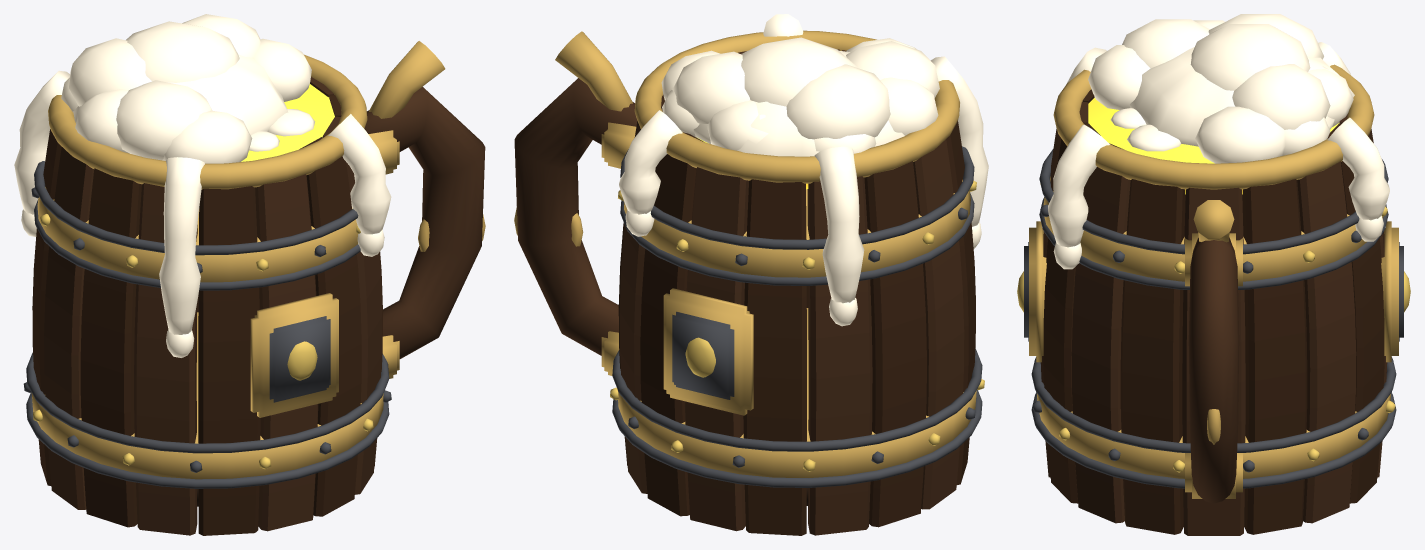
Rendered from tavern_mug.glb.
3 views of the same model, side by side, from view 1: azimuth 30°, elevation 25°; view 2: azimuth 150°, elevation 25°; view 3: azimuth 270°, elevation 25° (orthographic).
Visible parts, largest first — view 1: MugHandle, MugStave_11, MugStave_9, MugStave_10, MugBrassRim, MugStave_8, MugHoop_2, MugStave_13, MugStave_12, MugHoop_10, FoamDrip_0, MugCrest_Front (+25 smaller); view 2: MugHandle, MugStave_5, MugStave_7, MugStave_6, MugBrassRim, MugStave_8, MugHoop_2, MugStave_3, MugStave_4, MugHoop_10, FoamBubble_2, MugCrest_Back (+26 smaller); view 3: MugStave_1, MugStave_15, MugStave_2, MugStave_14, MugHandle, MugBrassRim, MugHoop_2, MugStave_0, MugStave_3, MugHoop_10, MugFoamCap, MugStave_13 (+27 smaller).
Boxes of the visible parts, x1,y1,x2,y2 form: MugHandle: [364, 86, 485, 358]; MugStave_11: [198, 186, 260, 535]; MugStave_9: [80, 168, 141, 527]; MugStave_10: [134, 183, 197, 535]; MugBrassRim: [48, 54, 367, 189]; MugStave_8: [44, 147, 94, 509]; MugHoop_2: [31, 312, 383, 479]; MugStave_13: [299, 137, 361, 516]; MugStave_12: [255, 174, 318, 531]; MugHoop_10: [37, 187, 357, 282]; FoamDrip_0: [159, 157, 204, 334]; MugCrest_Front: [250, 293, 338, 417]; MugHandle: [514, 78, 637, 355]; MugStave_5: [743, 179, 806, 535]; MugStave_7: [864, 161, 926, 527]; MugStave_6: [807, 176, 872, 535]; MugBrassRim: [634, 30, 959, 183]; MugStave_8: [913, 139, 964, 509]; MugHoop_2: [617, 308, 976, 477]; MugStave_3: [640, 132, 703, 516]; MugStave_4: [684, 167, 748, 531]; MugHoop_10: [624, 180, 970, 277]; FoamBubble_2: [786, 64, 890, 139]; MugCrest_Back: [663, 288, 753, 415]; MugStave_1: [1242, 179, 1307, 534]; MugStave_15: [1120, 179, 1185, 534]; MugStave_2: [1297, 161, 1356, 523]; MugStave_14: [1071, 143, 1130, 523]; MugHandle: [1188, 237, 1239, 503]; MugBrassRim: [1053, 64, 1374, 189]; MugHoop_2: [1037, 394, 1390, 478]; MugStave_0: [1182, 187, 1245, 535]; MugStave_3: [1327, 123, 1384, 503]; MugHoop_10: [1043, 176, 1383, 281]; MugFoamCap: [1130, 47, 1354, 146]; MugStave_13: [1043, 123, 1100, 503].
Size of the model in its own units: 0.1729 by 0.1621 by 0.1352.
